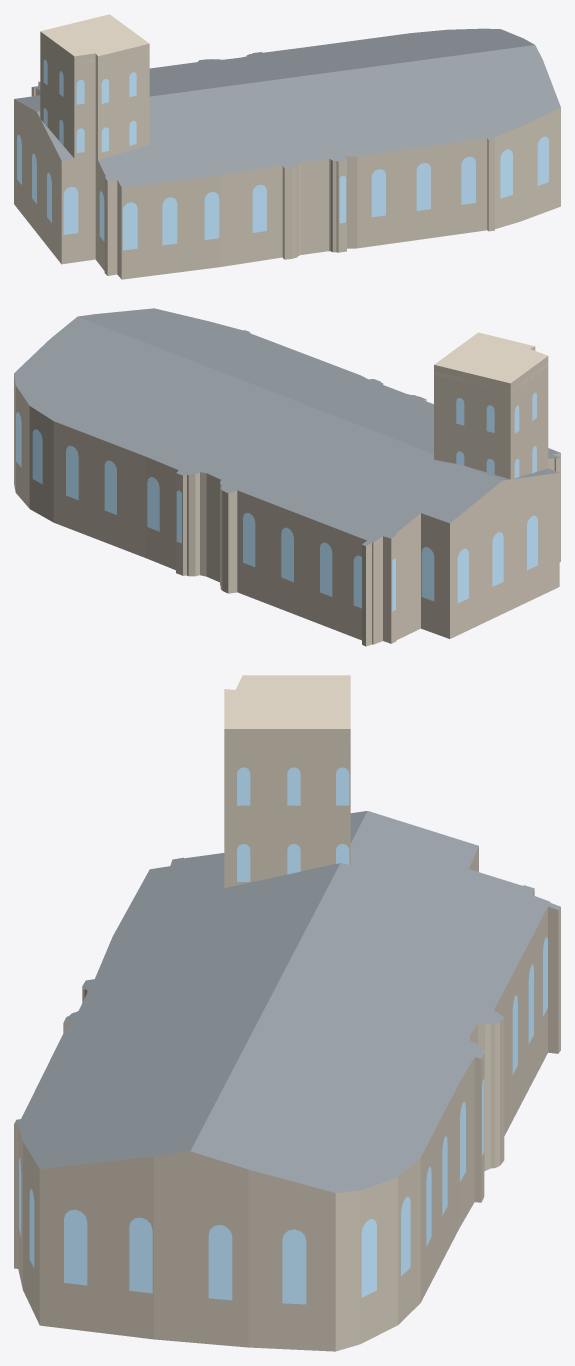
The picture shows the model from 3 angles, top to bottom: view 1: azimuth 30°, elevation 25°; view 2: azimuth 150°, elevation 25°; view 3: azimuth 270°, elevation 25°; orthographic projection. The views are drawn at different scales.
Parts seen in each view (by area): view 1: stone, roof, window; view 2: stone, roof, window; view 3: roof, stone, window.
Part boxes in pixels (x1,y1,x2,y2): stone: [14, 14, 560, 279]; roof: [14, 28, 560, 187]; window: [17, 59, 548, 250]; stone: [14, 332, 560, 646]; roof: [14, 308, 560, 546]; window: [16, 392, 537, 611]; roof: [14, 811, 560, 1192]; stone: [14, 675, 560, 1351]; window: [19, 767, 547, 1304].
Size of the model in its own units: 80.71 by 34 by 51.83.
